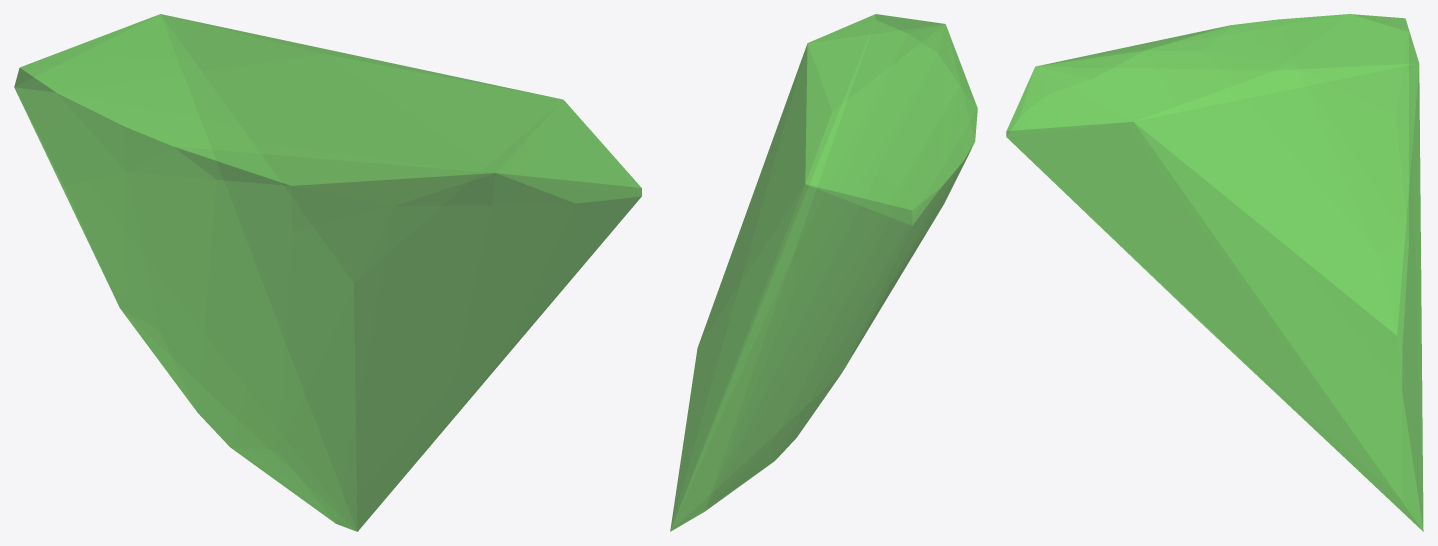
The picture shows the model from 3 angles, left to right: view 1: azimuth 30°, elevation 25°; view 2: azimuth 150°, elevation 25°; view 3: azimuth 270°, elevation 25°; orthographic projection. The views are drawn at different scales.
Visible parts, largest first — view 1: Shape_IndexedFaceSet.014_Shape_IndexedFaceSet.4360; view 2: Shape_IndexedFaceSet.014_Shape_IndexedFaceSet.4360; view 3: Shape_IndexedFaceSet.014_Shape_IndexedFaceSet.4360.
Boxes of the visible parts, box(x1,y1,x2,y2) form: Shape_IndexedFaceSet.014_Shape_IndexedFaceSet.4360: box(14, 14, 641, 531); Shape_IndexedFaceSet.014_Shape_IndexedFaceSet.4360: box(670, 14, 977, 531); Shape_IndexedFaceSet.014_Shape_IndexedFaceSet.4360: box(1006, 14, 1423, 531).
Size of the model in its own units: 0.278 by 0.4467 by 0.4038.
